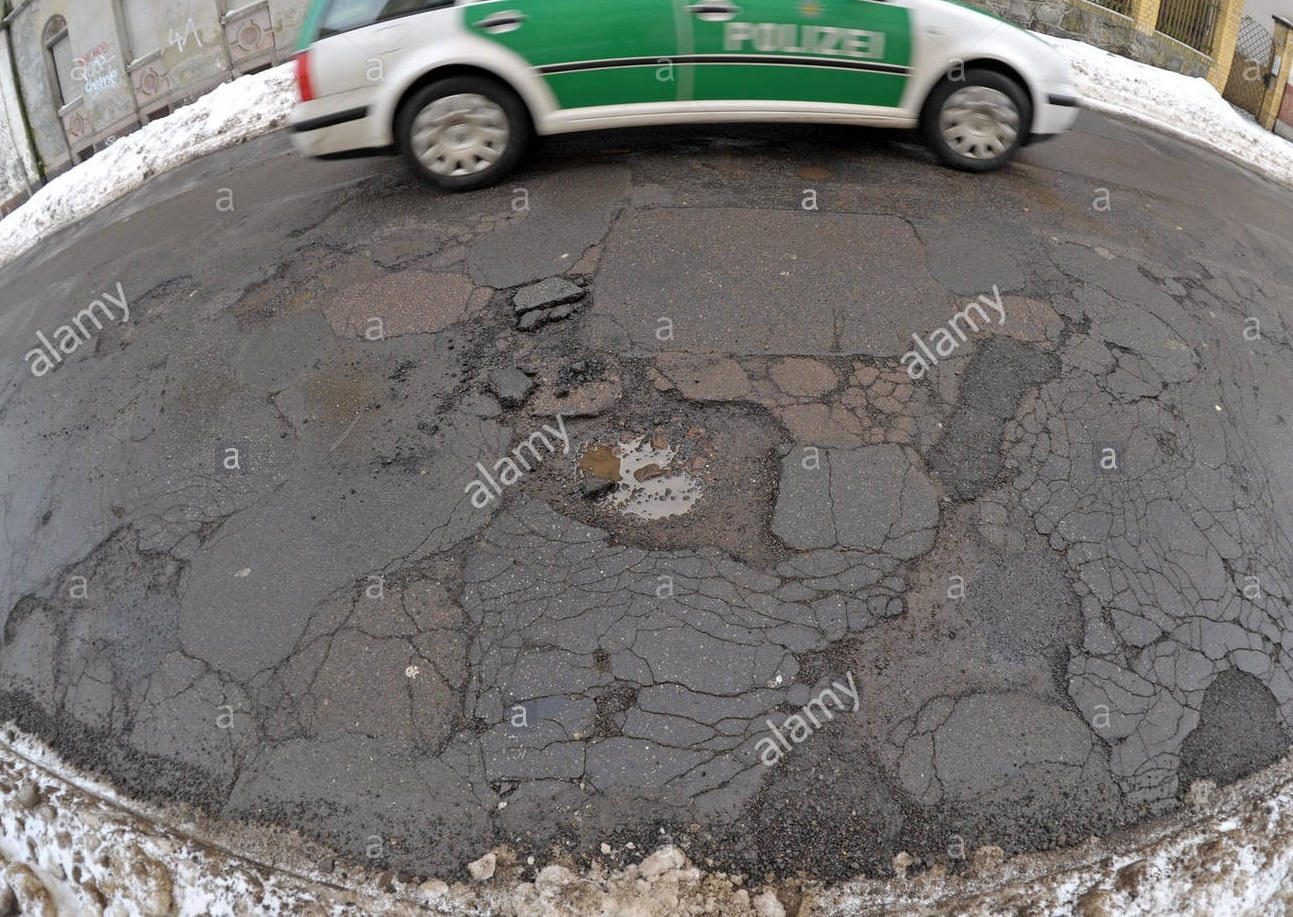pothole: (528, 386, 814, 593), (424, 257, 656, 432)
